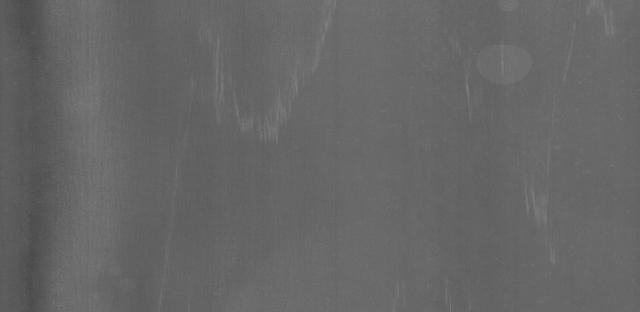silk_spot: (202, 23, 332, 165)
